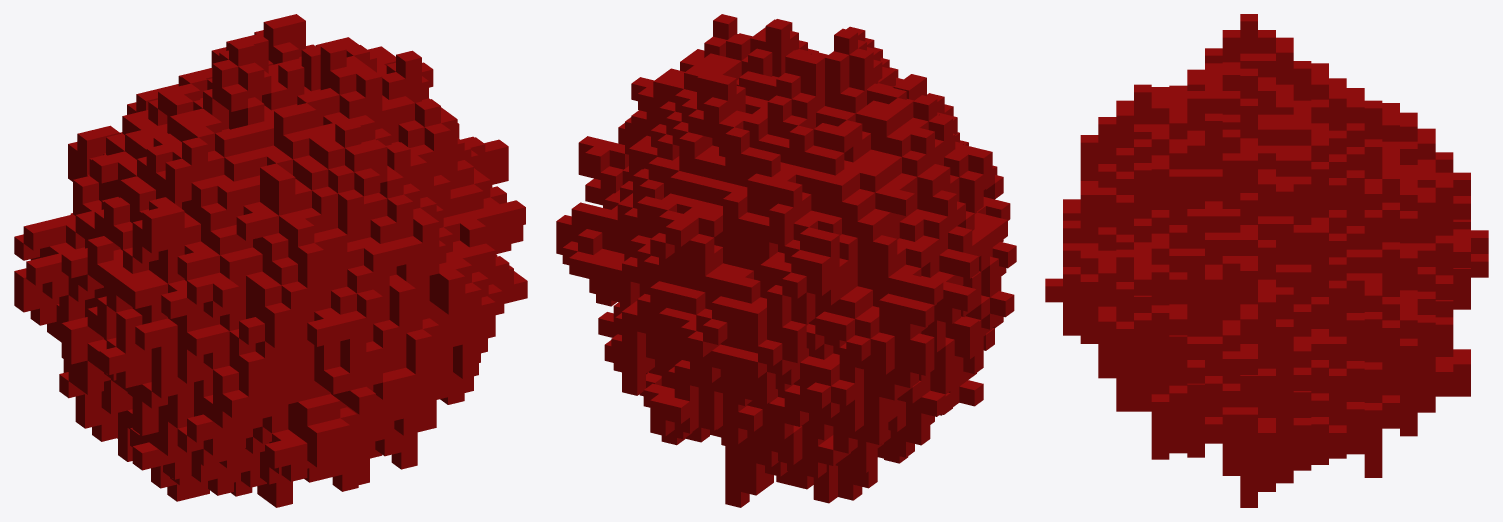
File: fireball.fbx
The picture shows the model from 3 angles, left to right: view 1: azimuth 30°, elevation 25°; view 2: azimuth 150°, elevation 25°; view 3: azimuth 270°, elevation 25°; orthographic projection. The views are drawn at different scales.
Parts seen in each view (by area): view 1: fireball; view 2: fireball; view 3: fireball.
Part boxes in pixels (x1,y1,x2,y2): fireball: (14,14,527,507); fireball: (556,14,1016,507); fireball: (1045,14,1488,507).
Size of the model in its own units: 27 by 27 by 25.
1 material, 1 textured.
